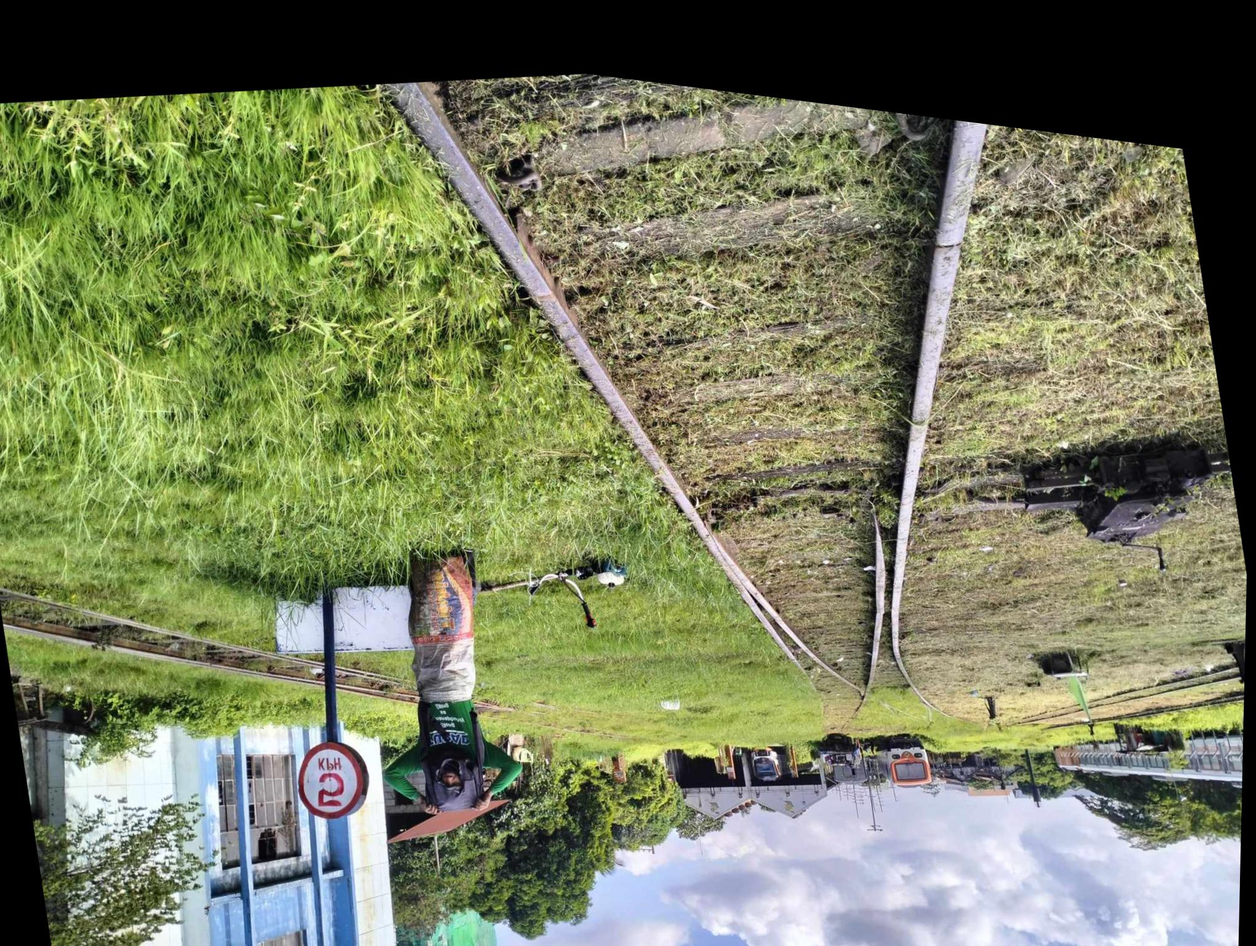person: (896, 166, 998, 271)
